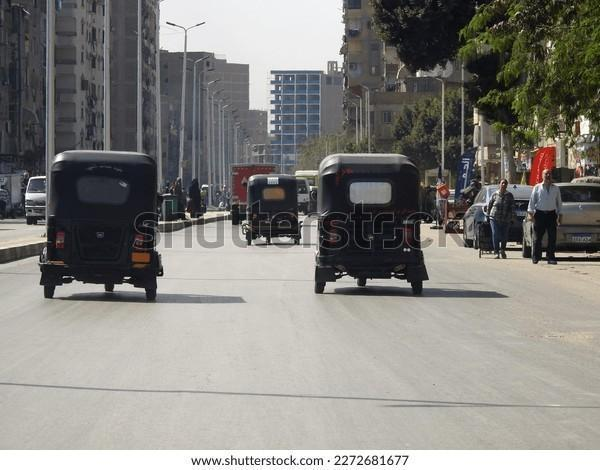keke: (46, 148, 166, 308), (316, 149, 430, 299), (525, 169, 598, 268)
